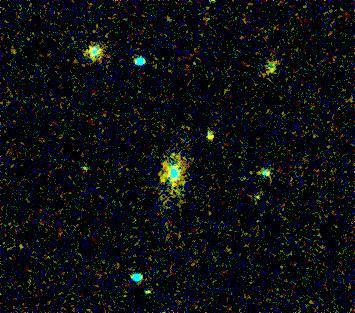star: (132, 277, 162, 307)
